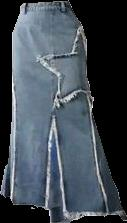Hemline: (0, 192, 126, 222)
Waistline: (20, 8, 72, 14), (21, 0, 67, 5)
